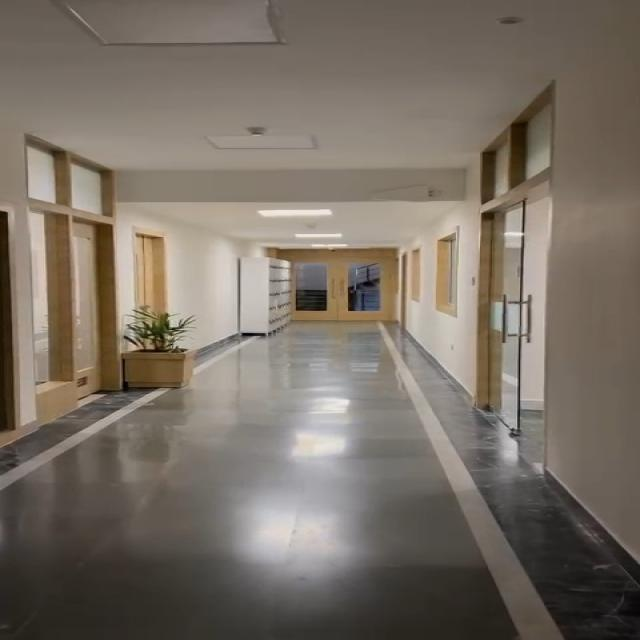door: (19, 124, 119, 409), (470, 136, 547, 426), (273, 248, 398, 326)
floor: (48, 418, 546, 640), (222, 337, 426, 430)
furniture: (110, 306, 198, 401)
wall: (544, 54, 640, 492), (392, 229, 484, 328), (176, 226, 246, 334)
